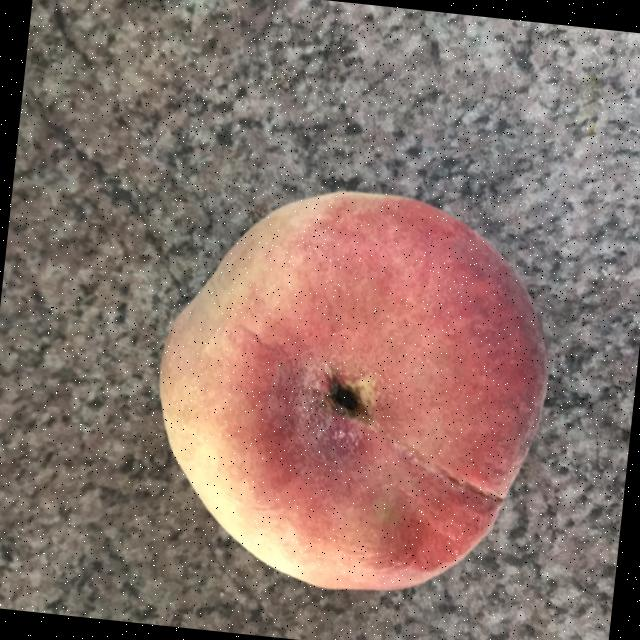peach: (163, 192, 541, 586)
